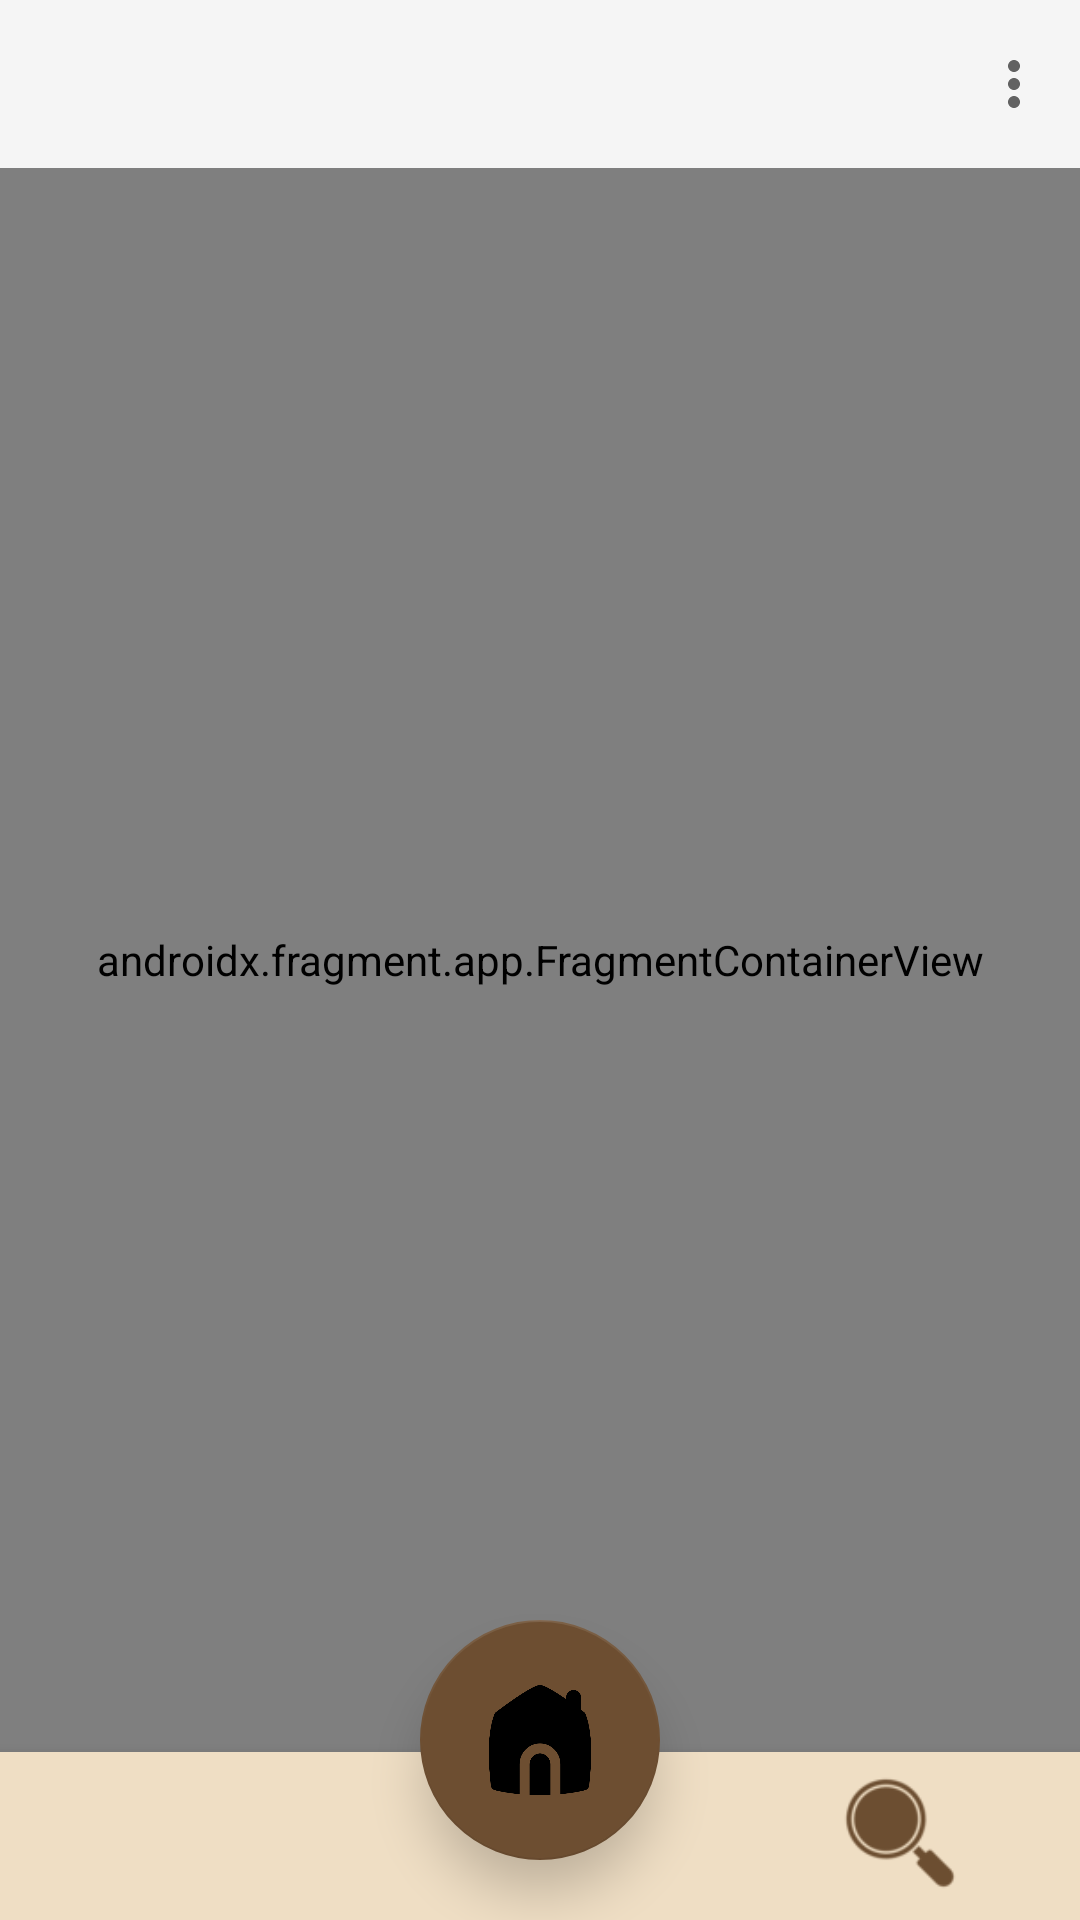

Point at icon controls on the screen. Image size 1080 x 1920, points as (x=x, y=y).
Home item: (x=540, y=1740)
